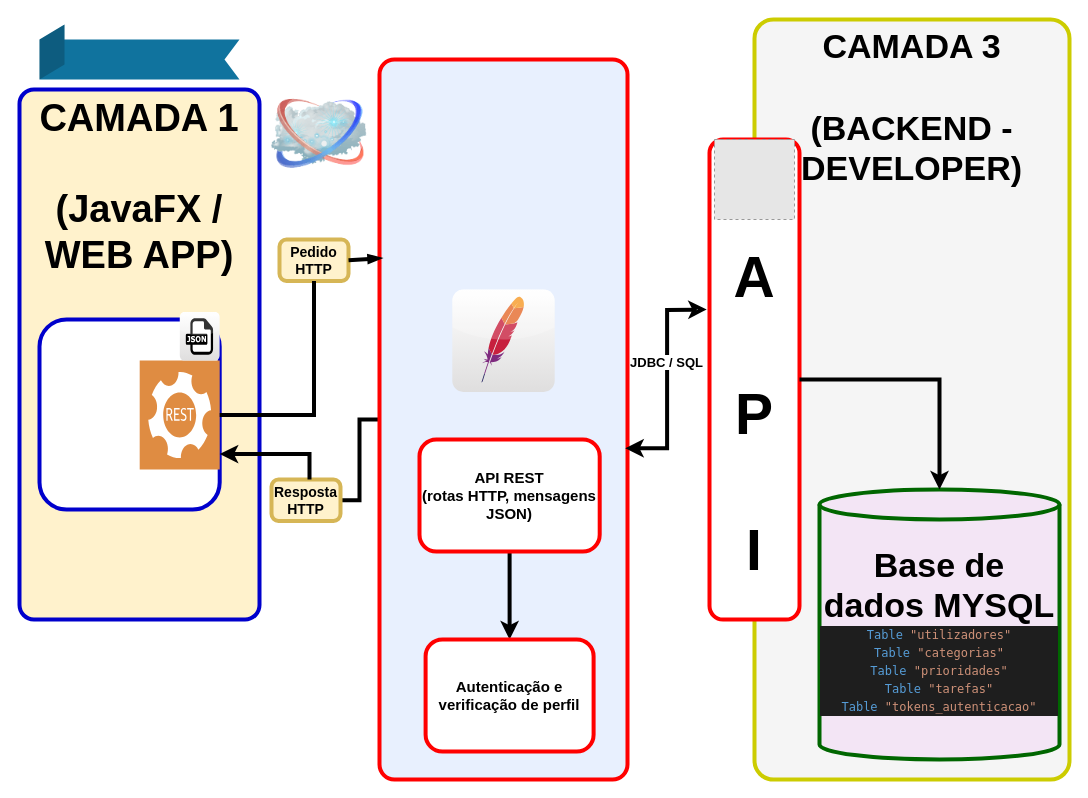
Image size: 1088x798. Some labels were removed from this diagram. Grey dashed boxes stand in for pictures. The shapes that lost their labels are listed below. From the top down, each one's box as (x1, y1, x2, y2) in pixels, then its label:
(39, 24, 239, 79): FRONTEND CLIENTES
(271, 89, 366, 178): Tunel NGROK
(37, 317, 221, 511): Cliente HTTP (pedidos / respostas REST )
(377, 57, 629, 781): CAMADA 2 (WEB APP SERVIDOR JAVA)
